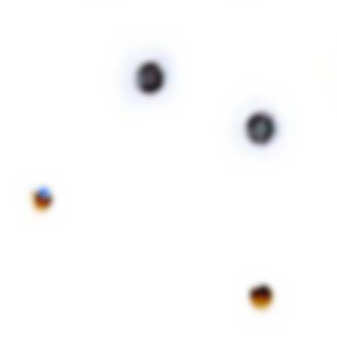cancer: (111, 44, 192, 113), (225, 94, 294, 159)
normal: (237, 273, 284, 320), (26, 177, 64, 216)
